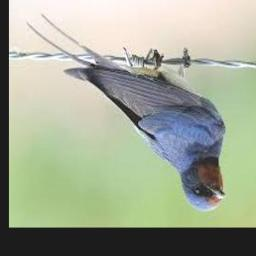Swallow: (26, 13, 226, 212)
